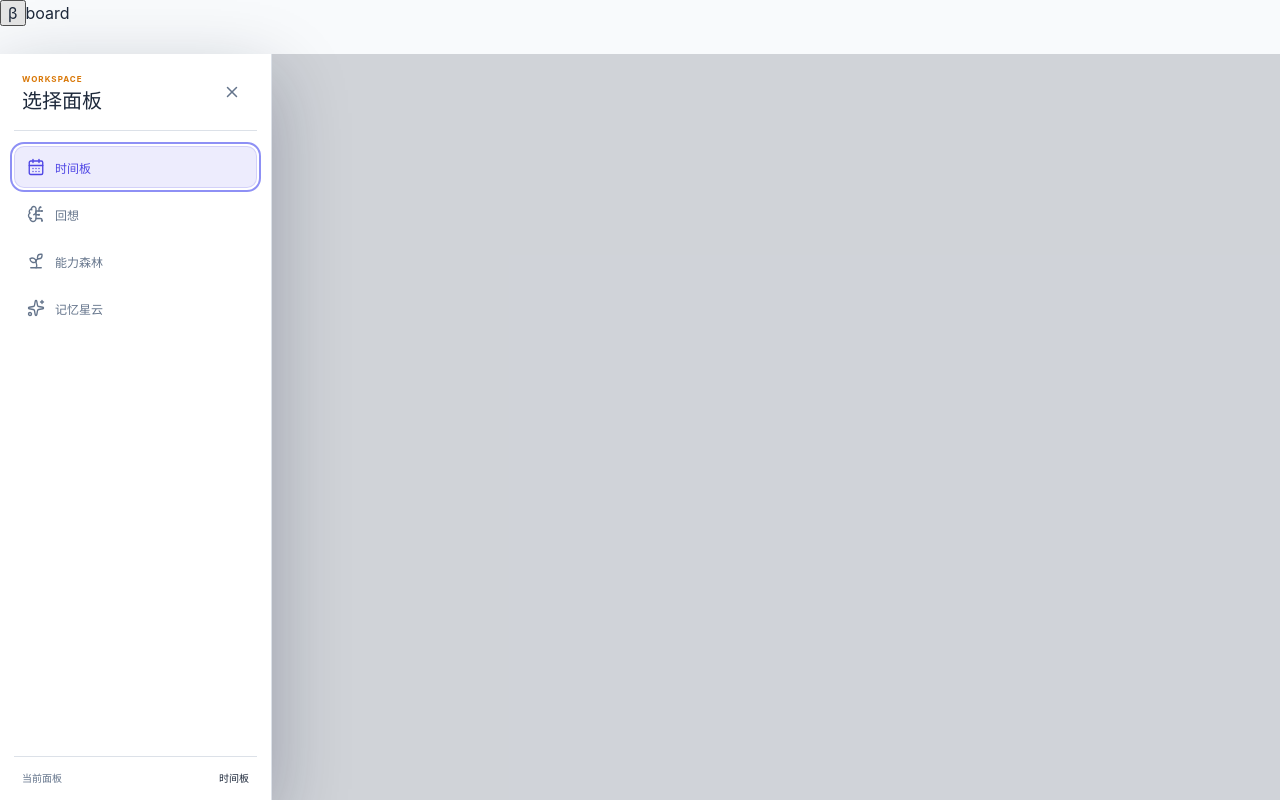
Scenario: WorkspaceDrawer › marks the default time board and switches to Recall before closing
The width and height of the screenshot is (1280, 800).
Expected: the button "时间板" is shown, [14, 146, 257, 188]
What coordinates should you click on to do the following:
click the button with class "workspace-drawer-item" showing "回想"
I would click on:
 (136, 214)
Its box is [14, 193, 257, 235].
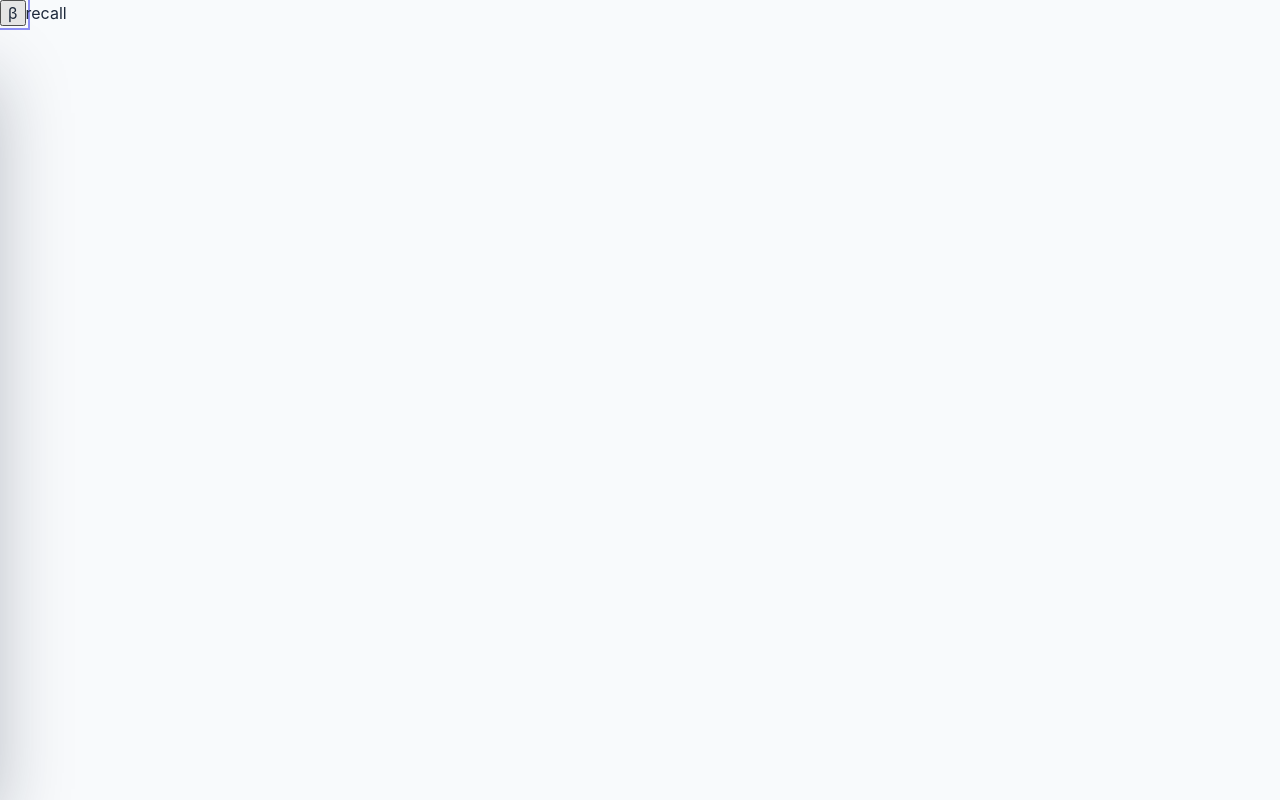
Result: the text "recall" is shown at [26, 3, 67, 23]
